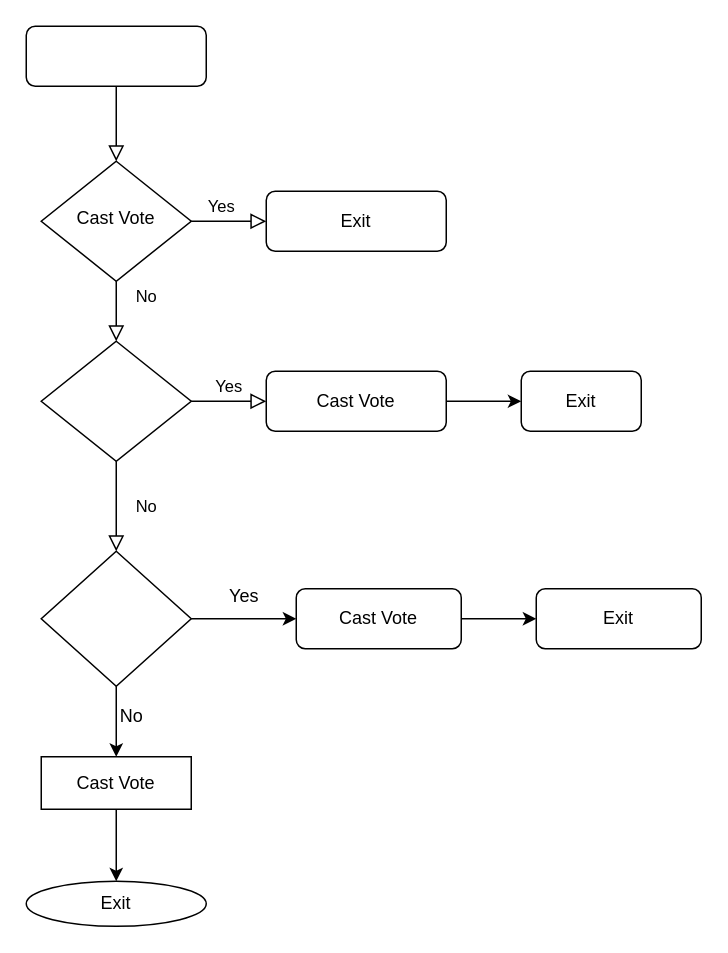
This 728x953 diagram has some shape labels left out. Each missing label, with the box of its shape:
Find Leading Candidates: (40, 550, 191, 686)
Find Total Votes: (40, 340, 191, 461)
Welcome screen: (25, 25, 206, 86)
